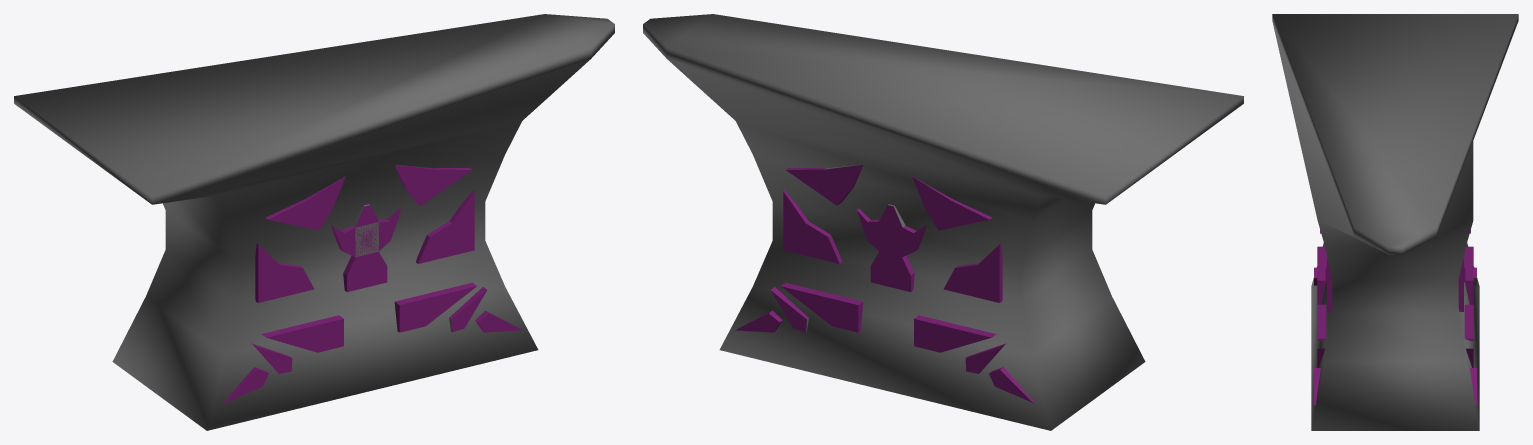
Rendered from AnvilTop.fbx.
3 views of the same model, side by side, from view 1: azimuth 30°, elevation 25°; view 2: azimuth 150°, elevation 25°; view 3: azimuth 270°, elevation 25° (orthographic). The views are drawn at different scales.
Visible parts, largest first — view 1: Anvil; view 2: Anvil; view 3: Anvil.
Part boxes in pixels (x1,y1,x2,y2): Anvil: (14,14,614,430); Anvil: (643,14,1243,430); Anvil: (1272,14,1518,430).
Size of the model in its own units: 167 by 81 by 75.57.
